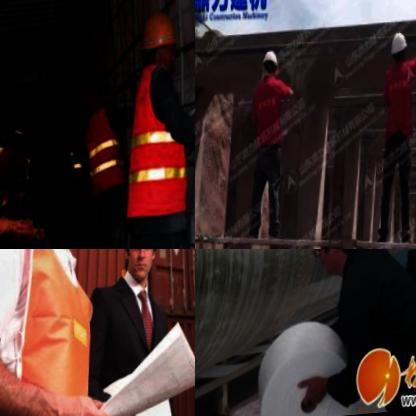helmet: (137, 9, 183, 82), (299, 249, 365, 287), (113, 249, 171, 289), (386, 34, 410, 82), (80, 86, 104, 121), (257, 48, 279, 83)
